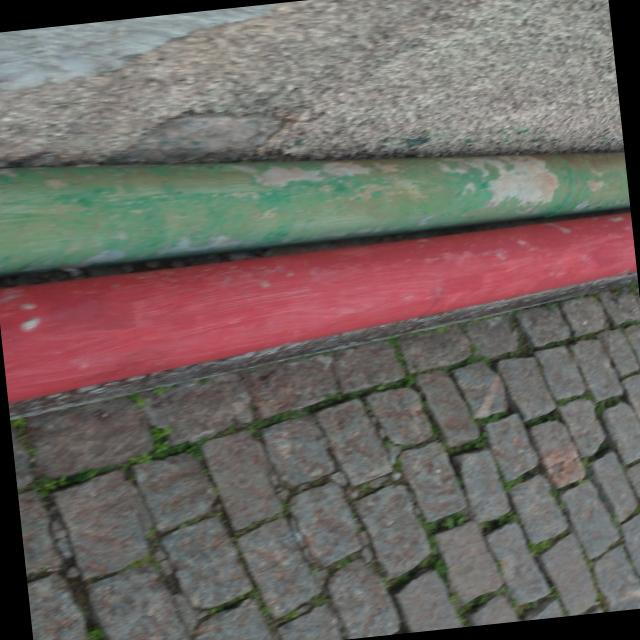gas: (0, 208, 640, 406), (0, 93, 630, 277)
